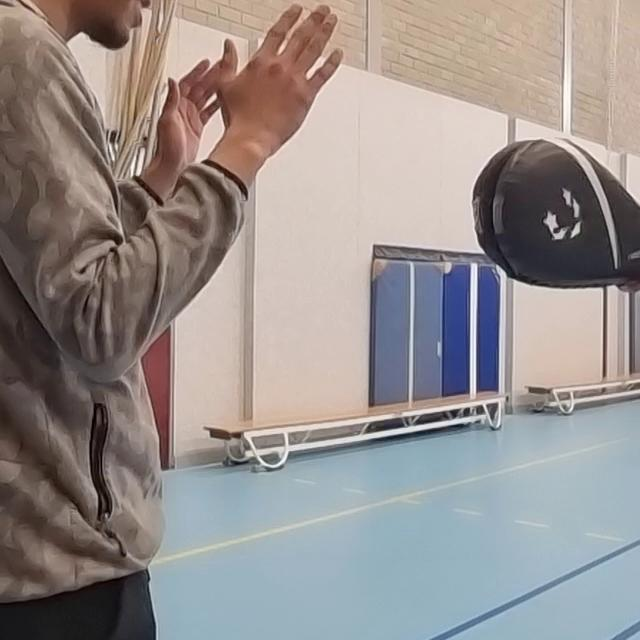paddle: (471, 130, 640, 290)
